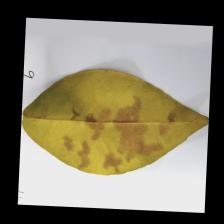black spot: (50, 102, 164, 176)
